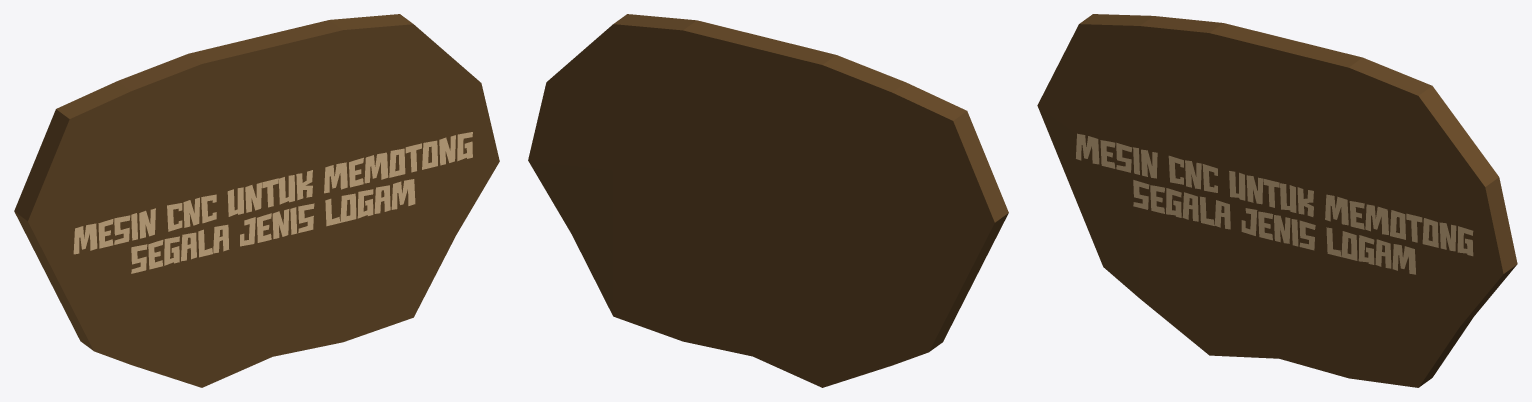
The model's file is ui_1_CNC SUPERMILL .fbx.
3 views of the same model, side by side, from view 1: azimuth 30°, elevation 25°; view 2: azimuth 150°, elevation 25°; view 3: azimuth 330°, elevation 25° (orthographic).
Parts seen in each view (by area): view 1: Cube.003, Text.002; view 2: Cube.003; view 3: Cube.003, Text.002.
Part boxes in pixels (bbox=[...]): Cube.003: bbox=[14, 14, 499, 387]; Text.002: bbox=[73, 132, 472, 273]; Cube.003: bbox=[528, 14, 1008, 387]; Cube.003: bbox=[1037, 14, 1517, 387]; Text.002: bbox=[1076, 133, 1473, 274].
Size of the model in its own units: 256 by 168 by 16.51.
